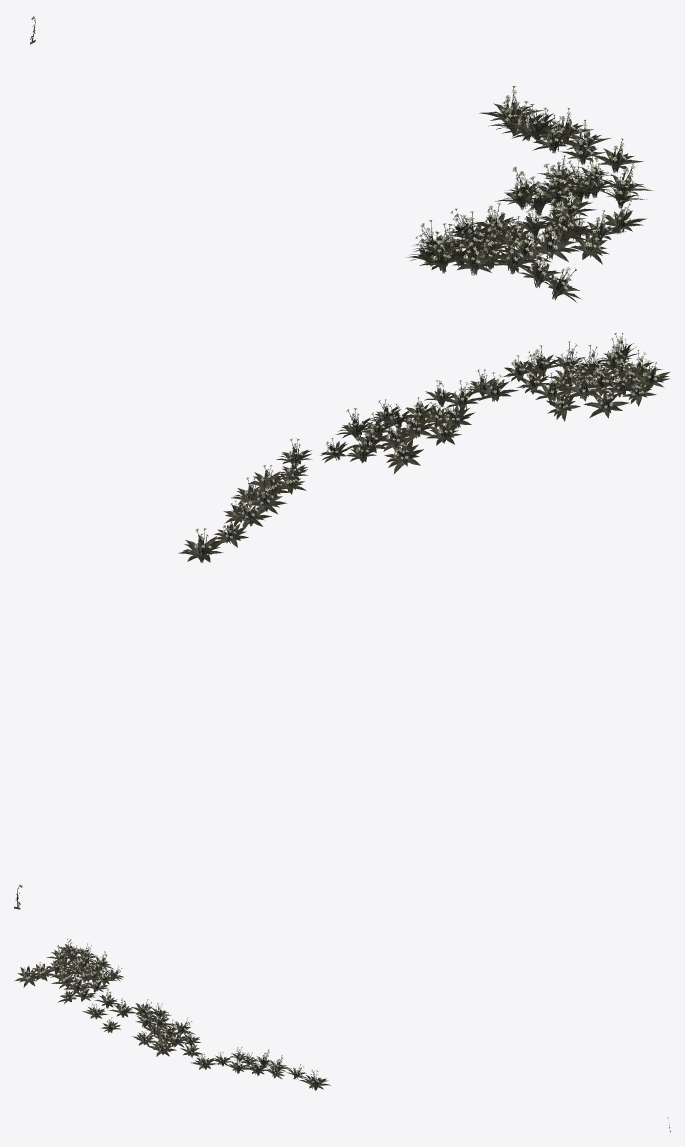
Rendered from grass11.fbx.
3 views of the same model, one above another, from view 1: azimuth 30°, elevation 25°; view 2: azimuth 150°, elevation 25°; view 3: azimuth 270°, elevation 25° (orthographic). The views are drawn at different scales.
Visible parts, largest first — view 1: m131214_0:3, m131214_0:1; view 2: m131214_0:3, m131214_0:1; view 3: m131214_0:3, m131214_0:1.
Part boxes in pixels (box(x1,y1,x2,y2)): m131214_0:3: box(479, 86, 654, 241); m131214_0:1: box(406, 202, 609, 302); m131214_0:3: box(178, 369, 518, 563); m131214_0:1: box(502, 332, 670, 421); m131214_0:3: box(82, 989, 330, 1090); m131214_0:1: box(14, 939, 123, 1003).
Bounding box in the file's own units: 76677 × 59029 × 239819.
